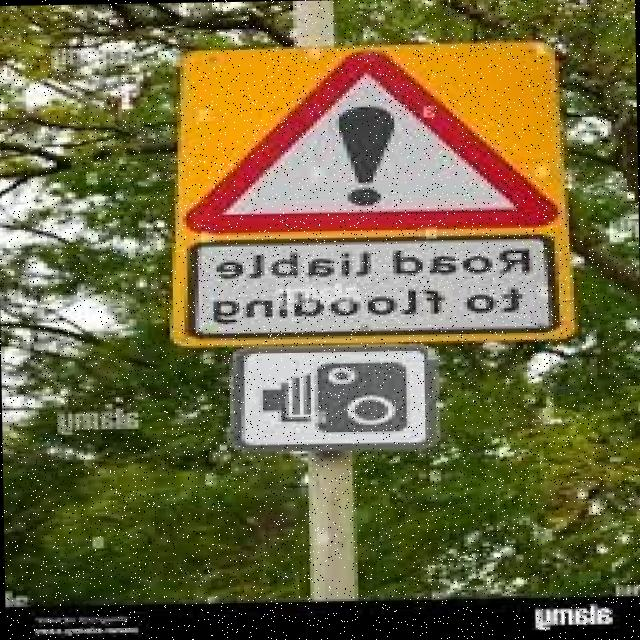warning: (182, 44, 556, 239)
